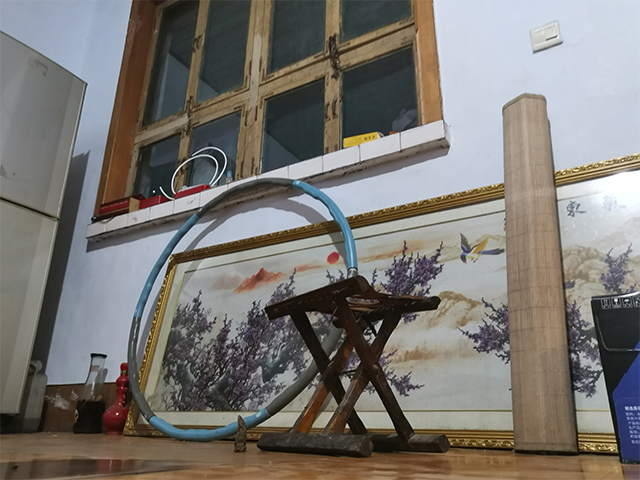feces: (233, 414, 249, 454)
stool: (256, 273, 449, 458)
